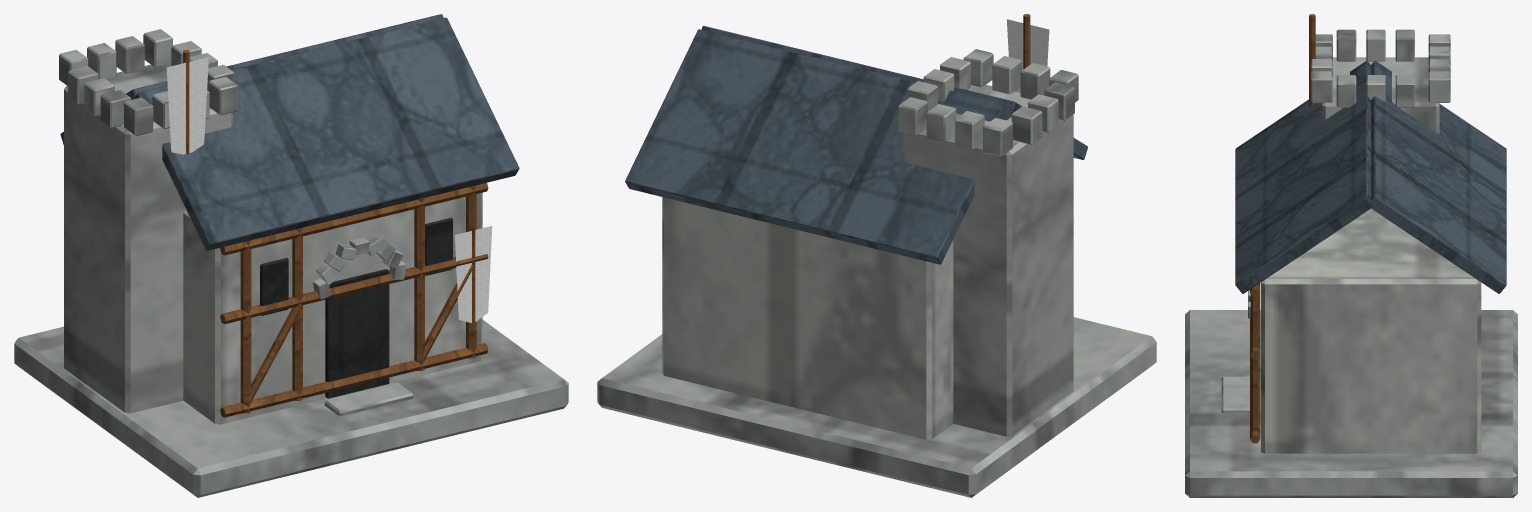
The model's file is edificio-center-e2-DFzIKFOX.glb.
The picture shows the model from 3 angles, left to right: view 1: azimuth 30°, elevation 25°; view 2: azimuth 150°, elevation 25°; view 3: azimuth 270°, elevation 25°; orthographic projection. The views are drawn at different scales.
Parts seen in each view (by area): view 1: centro_e2_mamposteria, centro_e2_cubierta_detalles, centro_e2_estructura, centro_e2_team_color; view 2: centro_e2_mamposteria, centro_e2_cubierta_detalles, centro_e2_team_color; view 3: centro_e2_mamposteria, centro_e2_cubierta_detalles, centro_e2_estructura.
Boxes of the visible parts, box(x1,y1,x2,y2) form: centro_e2_mamposteria: box(14, 29, 568, 497); centro_e2_cubierta_detalles: box(60, 14, 519, 398); centro_e2_estructura: box(183, 50, 488, 417); centro_e2_team_color: box(166, 57, 492, 323); centro_e2_mamposteria: box(597, 49, 1156, 497); centro_e2_cubierta_detalles: box(625, 26, 1087, 264); centro_e2_team_color: box(1007, 19, 1049, 92); centro_e2_mamposteria: box(1185, 29, 1517, 497); centro_e2_cubierta_detalles: box(1235, 61, 1506, 293); centro_e2_estructura: box(1250, 14, 1315, 443).
Bounding box in the file's own units: 80.25 × 78 × 68.
4 materials, 4 textured.
